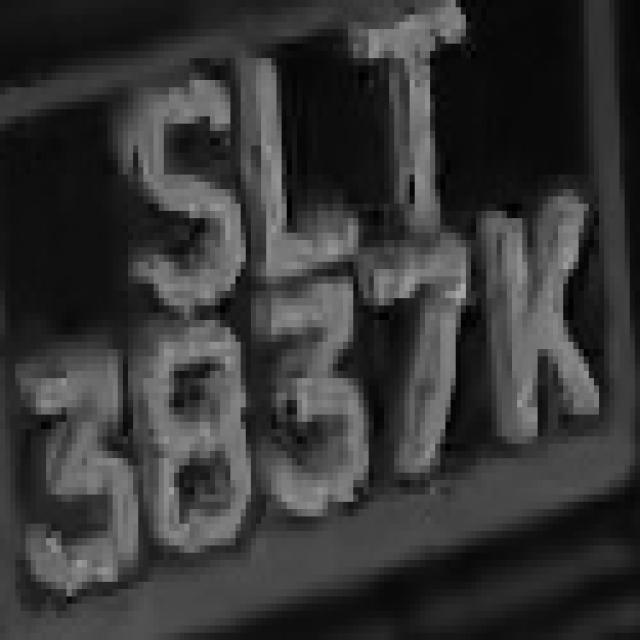3: (5, 320, 143, 604), (251, 291, 389, 531)
7: (348, 247, 471, 495)
8: (133, 284, 256, 582)
K: (471, 182, 614, 436)
L: (230, 29, 368, 276)
S: (97, 80, 241, 327)
T: (328, 8, 466, 226)
